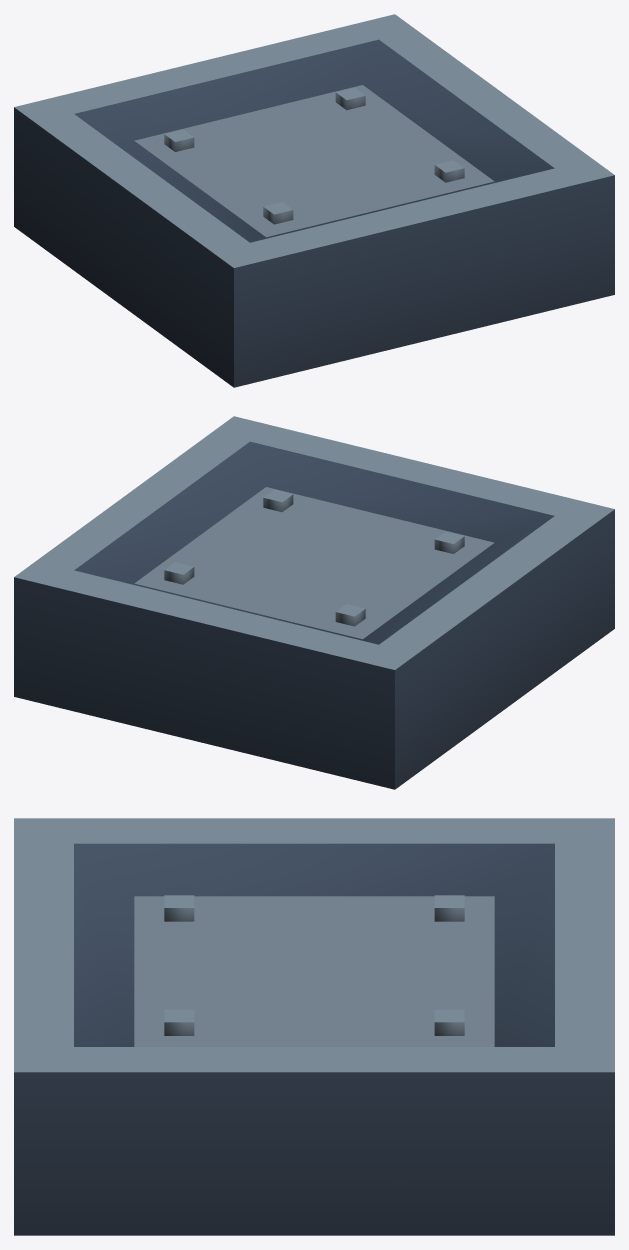
The model's file is floor-panel.obj.
The picture shows the model from 3 angles, top to bottom: view 1: azimuth 30°, elevation 25°; view 2: azimuth 150°, elevation 25°; view 3: azimuth 270°, elevation 25°; orthographic projection. The views are drawn at different scales.
Visible parts, largest first — view 1: floor-panel; view 2: floor-panel; view 3: floor-panel.
Boxes of the visible parts, bbox=[...] form: floor-panel: bbox=[14, 14, 614, 387]; floor-panel: bbox=[14, 416, 614, 789]; floor-panel: bbox=[14, 818, 614, 1235].
Size of the model in its own units: 1 by 0.3 by 1.
